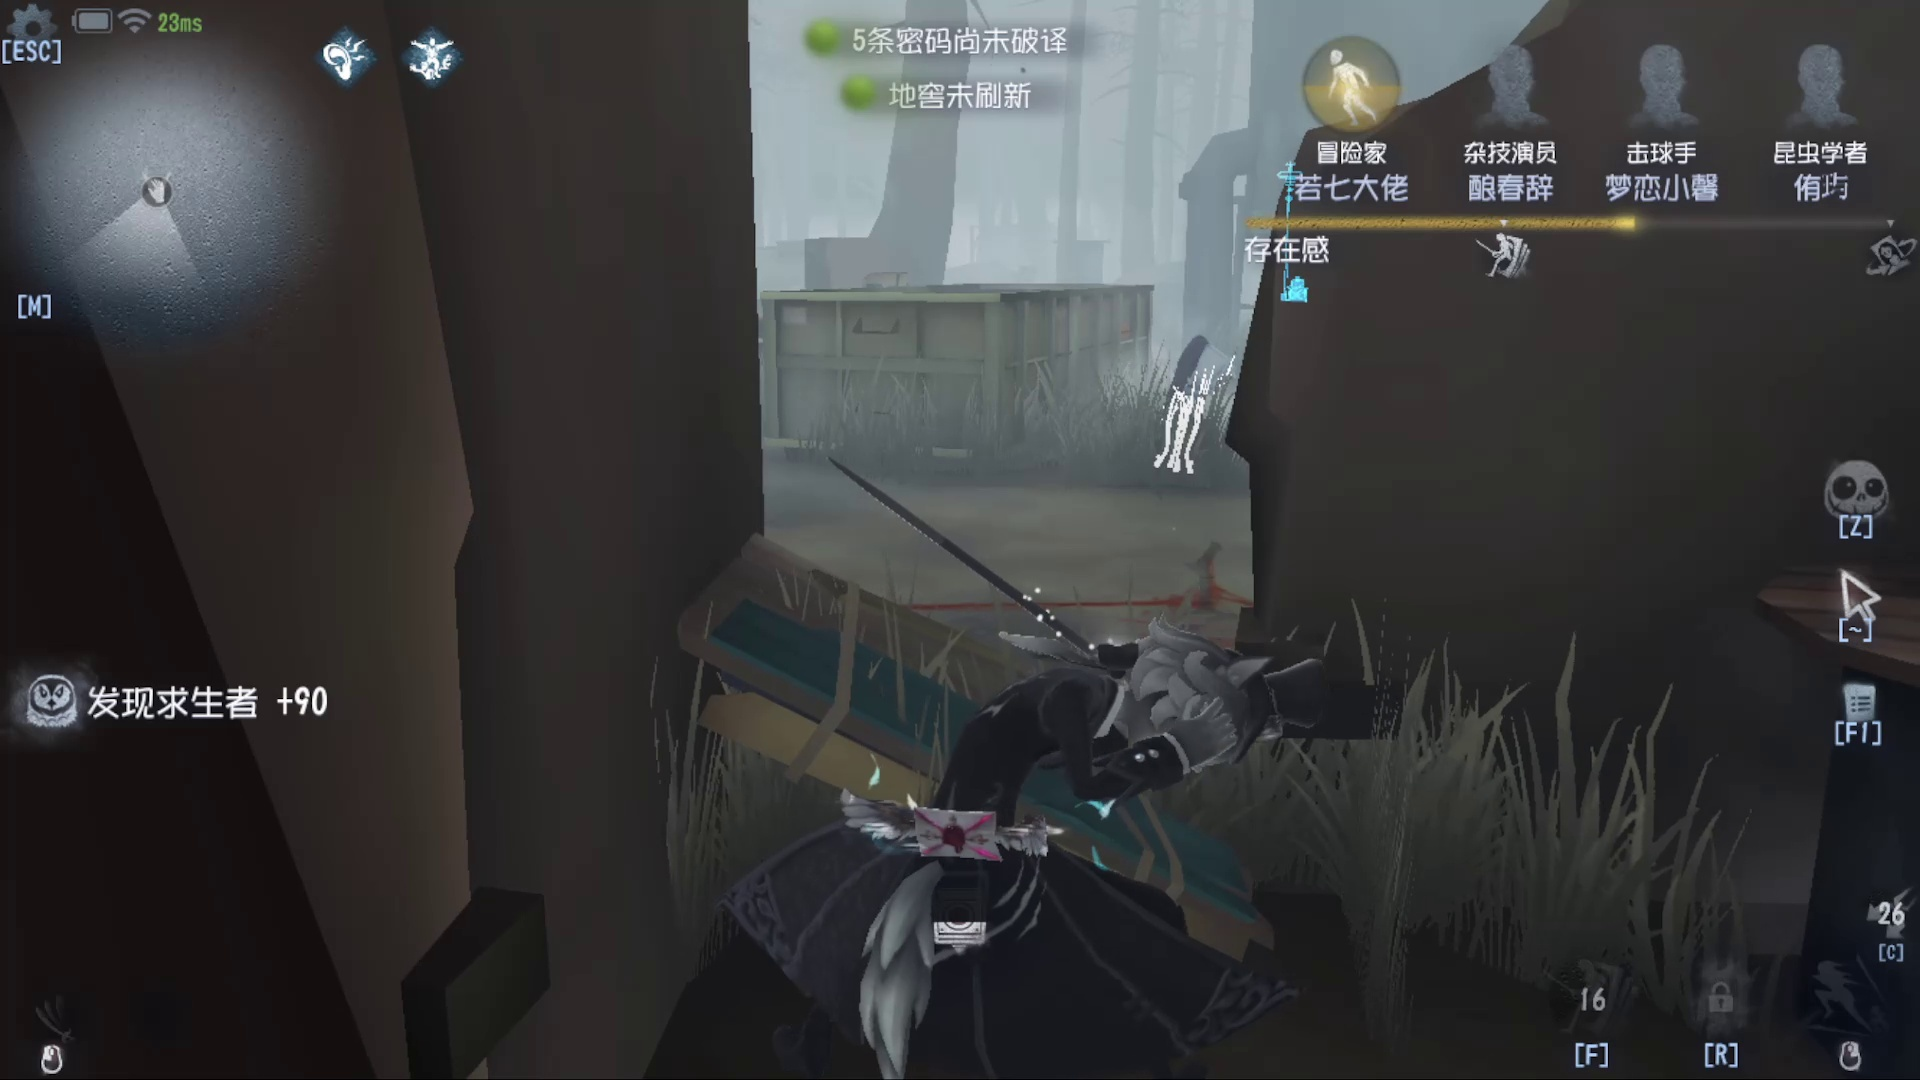密码机: (1251, 135, 1338, 338)
木板: (674, 500, 1287, 951)
